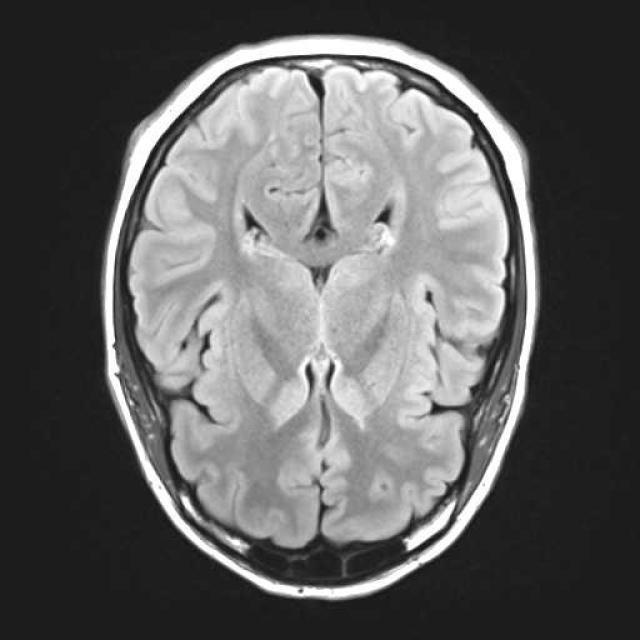No_Tumor: (103, 37, 539, 598)
